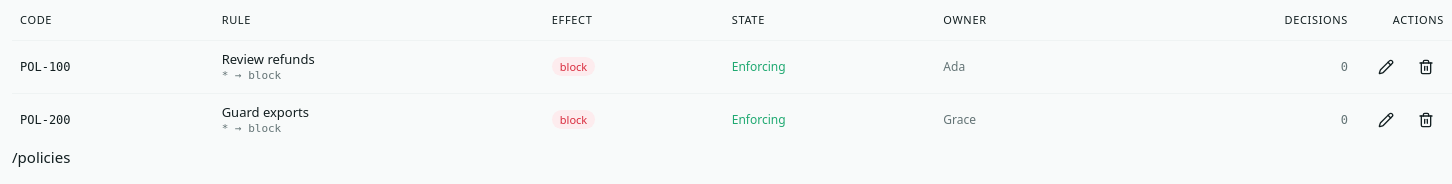
Test case: policy list actions › opens the selected policy from the row outside its name
expect the row "POL-200 Guard exports * → block block Enforcing Grace 0" is shown: met, box [12, 93, 1451, 146]
Click the text "Grace".
click(960, 119)  # box [935, 93, 1115, 146]
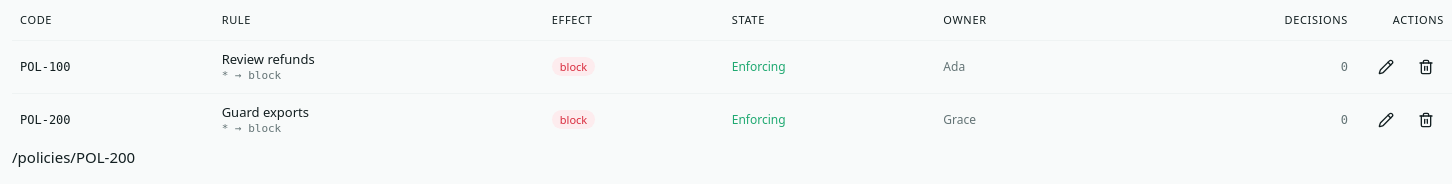
expect the text with test id "location" reads "/policies/POL-200": met, box [12, 146, 135, 166]
